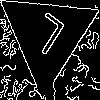L: (22, 11, 67, 64)
